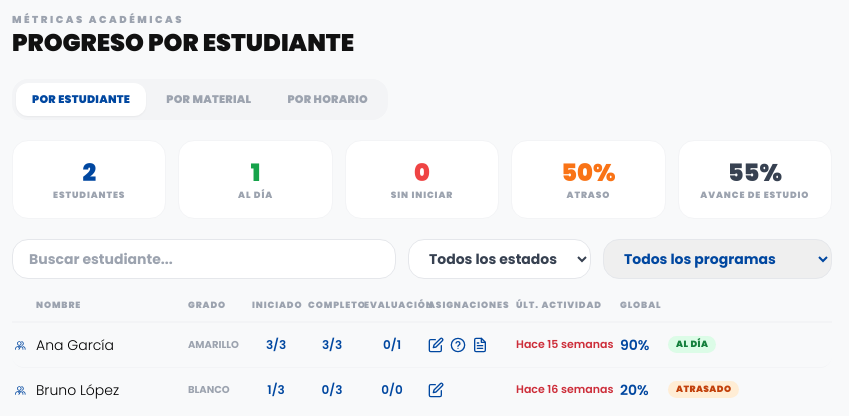
Test: PanelMetricasEstudiantes › filtra por estado "al_dia"
Expected: the text "Ana García" is shown, x1=36 y1=334 x2=114 y2=354
// Ahora hay 2 selects (estado y programa) -- se escopea por label para no ambiguar.
Select "Al día" in the dropdown named "Filtrar por estado de progreso": (500, 259) x1=408 y1=239 x2=591 y2=279
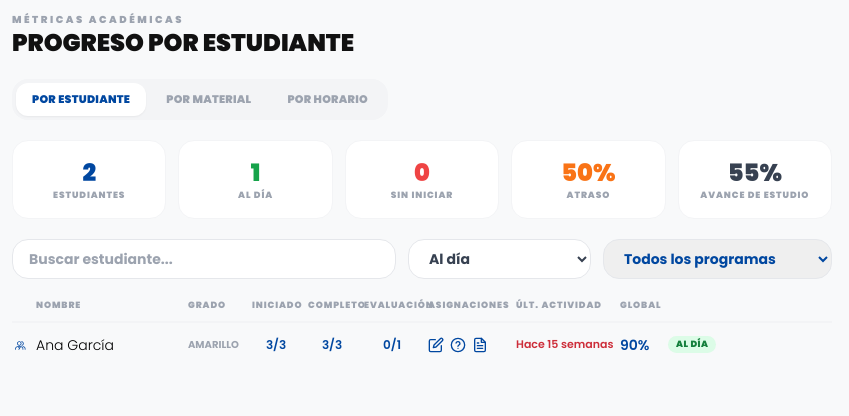
Expected: the text "Ana García" is shown, x1=36 y1=334 x2=114 y2=354
Now the text "Bruno López" is gone
